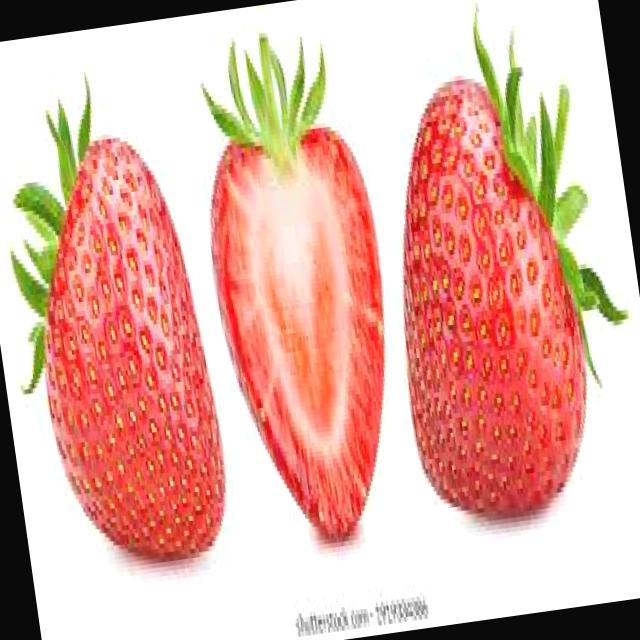strawberry: (357, 0, 638, 556), (0, 65, 251, 625), (180, 33, 418, 560)
